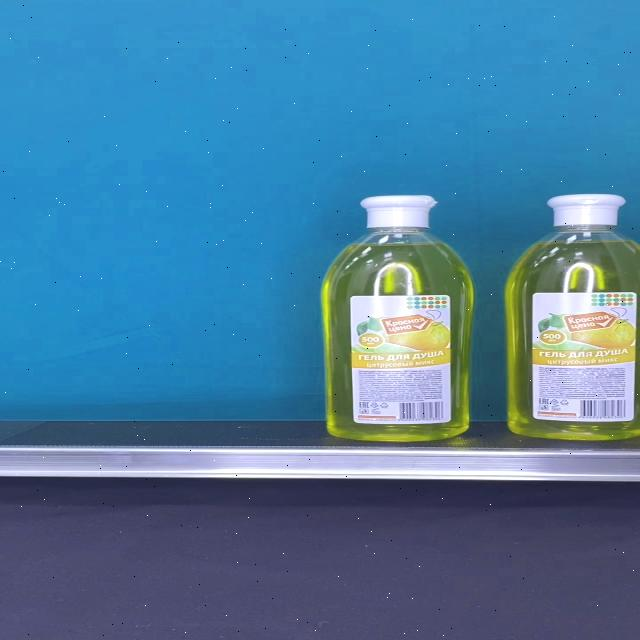Bottle: (322, 194, 474, 440), (505, 193, 640, 441)
Cap: (362, 195, 440, 229), (548, 194, 630, 226)
